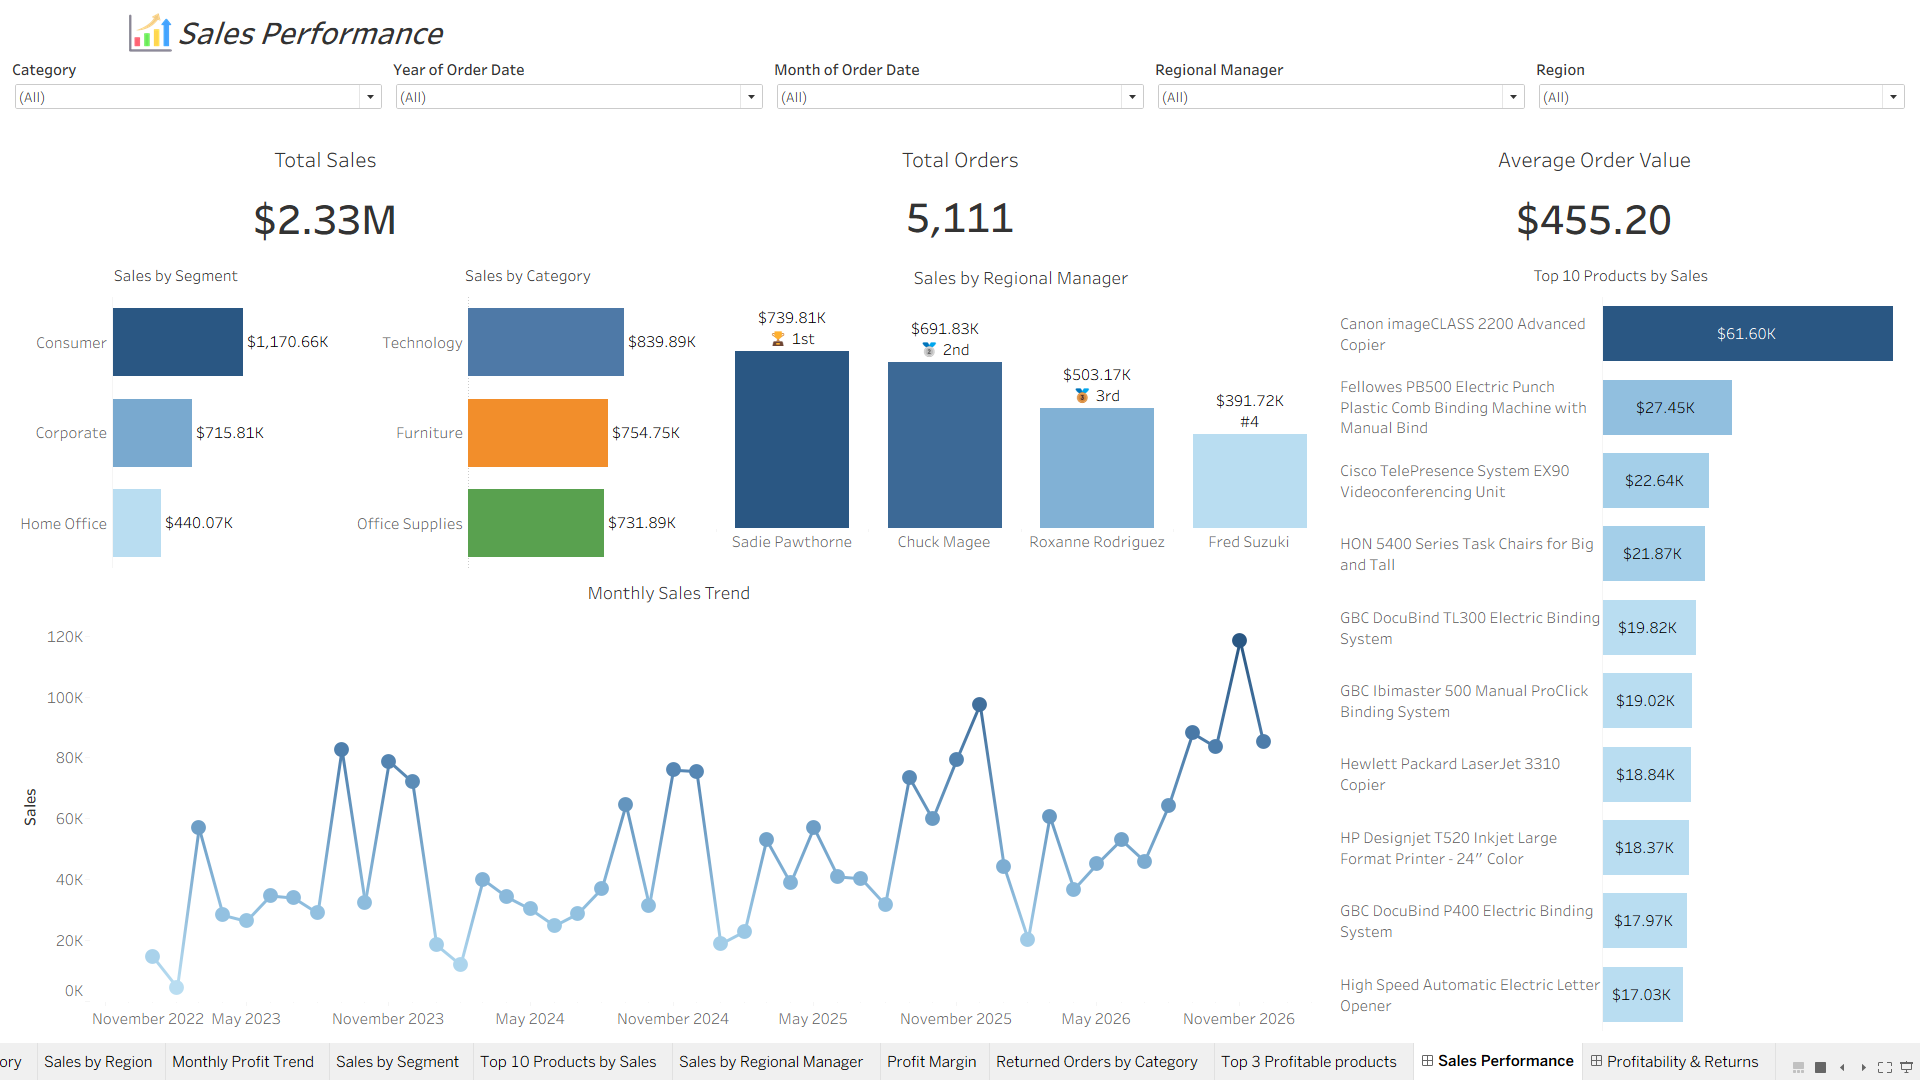

This screenshot's page, from the dashboard's own definition file:
{"tool":"tableau","page":{"name":"Sales Performance","canvas":[1400,850],"ordinal":1},"visuals":[{"type":"title","box":[8,8,1384,47]},{"type":"image","param":"Image/trend.png","box":[131,13,48,36]},{"type":"filter","title":"Average Order Value","param":"[federated.17jq99y0l6ibxz1crijgj0ft7ye0].[none:Category:nk]","box":[8,55,277,63]},{"type":"filter","title":"Average Order Value","param":"[federated.17jq99y0l6ibxz1crijgj0ft7ye0].[yr:Order Date:ok]","box":[285,55,277,63]},{"type":"filter","title":"Average Order Value","param":"[federated.17jq99y0l6ibxz1crijgj0ft7ye0].[mn:Order Date:ok]","box":[562,55,277,63]},{"type":"filter","title":"Average Order Value","param":"[federated.17jq99y0l6ibxz1crijgj0ft7ye0].[none:Regional Manager:nk]","box":[839,55,277,63]},{"type":"filter","title":"Sales by Regional Manager","param":"[federated.17jq99y0l6ibxz1crijgj0ft7ye0].[none:Region (People):nk]","box":[1116,55,276,63]},{"type":"worksheet","title":"Total Sales","mark":"Automatic","box":[8,117.7,461.3,92.3]},{"type":"worksheet","title":"Total Orders","mark":"Automatic","box":[469.3,117.7,461.3,92.3]},{"type":"worksheet","title":"Average Order Value","mark":"Automatic","box":[930.6,117.7,461.3,92.3]},{"type":"worksheet","title":"Sales by Segment","mark":"Bar","rows":["Segment"],"cols":["Sales"],"box":[8,210,273,315]},{"type":"worksheet","title":"Sales by Category","mark":"Pie","box":[281,210,292,315]},{"type":"worksheet","title":"Sales by Regional Manager","mark":"Automatic","rows":["Sales"],"cols":["Regional Manager"],"box":[573,210,331,315]},{"type":"worksheet","title":"Top 10 Products by Sales","mark":"Automatic","rows":["Product Name"],"cols":["Sales"],"box":[904,210,488,632]},{"type":"worksheet","title":"Monthly Sales Trend","mark":"Automatic","rows":["Sales","Sales"],"cols":["Order Date"],"box":[8,525,896,317]}]}

Visuals, with their boxes on the page's 1400x850 design canvas (x1, y1, x2, y2). These are canvas units, not pixel positions in the 1920x1080 screenshot, which may show the page scaled, cropped or inside an application window:
title: l=8, t=8, r=1392, b=55
image: l=131, t=13, r=179, b=49
"Average Order Value" filter: l=8, t=55, r=285, b=118
"Average Order Value" filter: l=285, t=55, r=562, b=118
"Average Order Value" filter: l=562, t=55, r=839, b=118
"Average Order Value" filter: l=839, t=55, r=1116, b=118
"Sales by Regional Manager" filter: l=1116, t=55, r=1392, b=118
"Total Sales" worksheet: l=8, t=118, r=469, b=210
"Total Orders" worksheet: l=469, t=118, r=931, b=210
"Average Order Value" worksheet: l=931, t=118, r=1392, b=210
"Sales by Segment" worksheet (Bar marks): l=8, t=210, r=281, b=525
"Sales by Category" worksheet (Pie marks): l=281, t=210, r=573, b=525
"Sales by Regional Manager" worksheet: l=573, t=210, r=904, b=525
"Top 10 Products by Sales" worksheet: l=904, t=210, r=1392, b=842
"Monthly Sales Trend" worksheet: l=8, t=525, r=904, b=842
